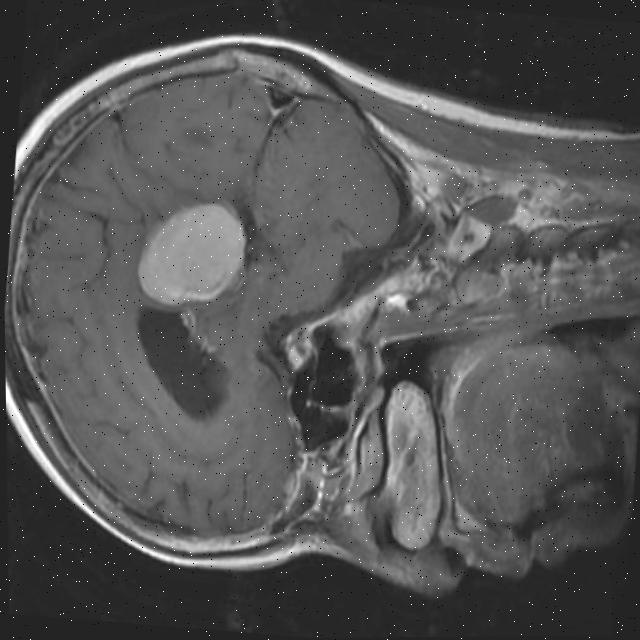Meningioma: (130, 197, 251, 310)
